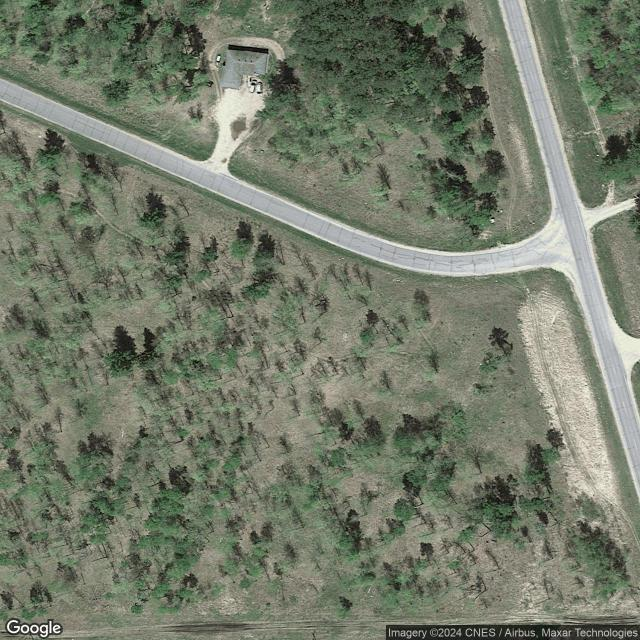Propane: (215, 53, 222, 63)
